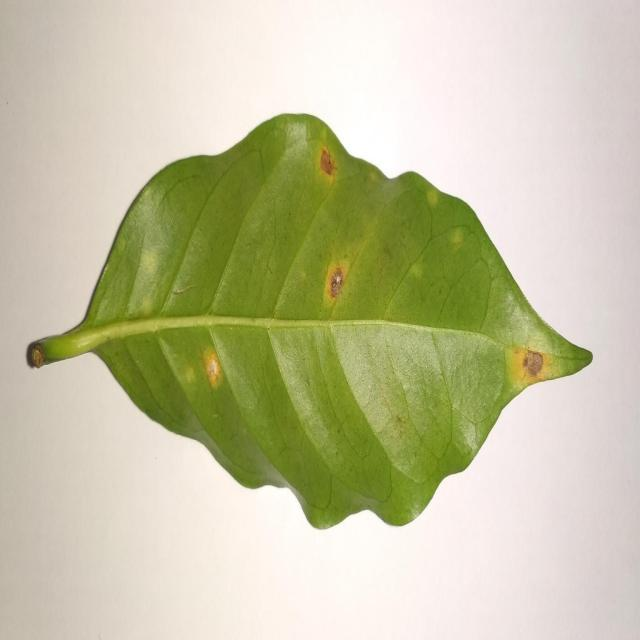Enfermedad-Roya: (24, 114, 595, 532)
